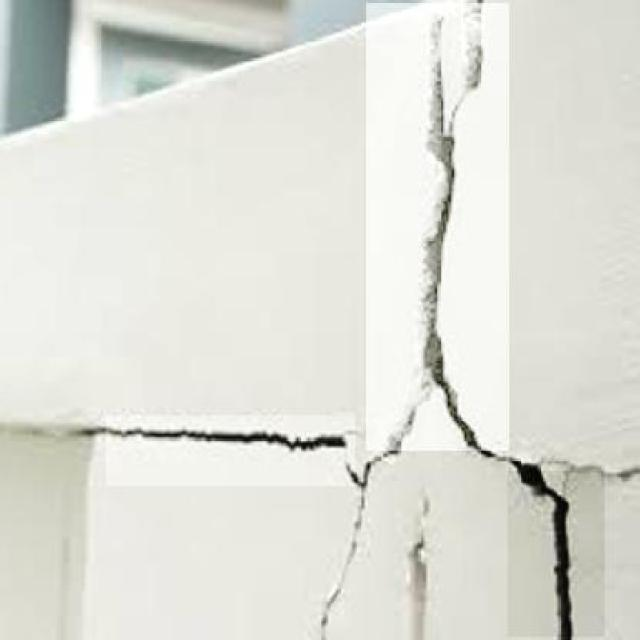Crack: (368, 12, 509, 453), (497, 458, 618, 640), (34, 409, 355, 476), (303, 496, 399, 640)
